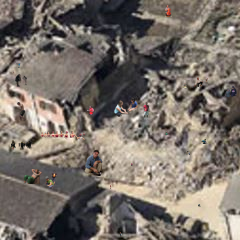Human: (114, 97, 138, 118), (143, 102, 171, 120), (84, 150, 103, 176), (40, 130, 88, 140), (23, 169, 42, 184), (43, 170, 57, 189), (11, 140, 32, 150), (17, 102, 26, 121), (15, 73, 27, 87), (225, 86, 237, 99), (194, 77, 208, 87), (81, 106, 94, 115), (165, 5, 172, 17), (201, 139, 208, 144), (118, 232, 122, 240), (181, 83, 187, 88), (186, 151, 190, 155), (10, 229, 14, 233), (165, 130, 168, 135), (18, 63, 20, 68), (198, 204, 201, 207), (131, 163, 133, 166), (13, 70, 14, 74), (110, 185, 111, 189)
